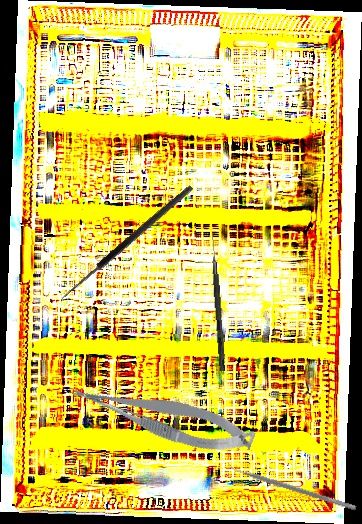Hook Surgical: (57, 183, 200, 310), (208, 233, 227, 372)
Micro Scissor: (68, 361, 258, 470)
Spatula Surgical: (224, 460, 359, 511)
